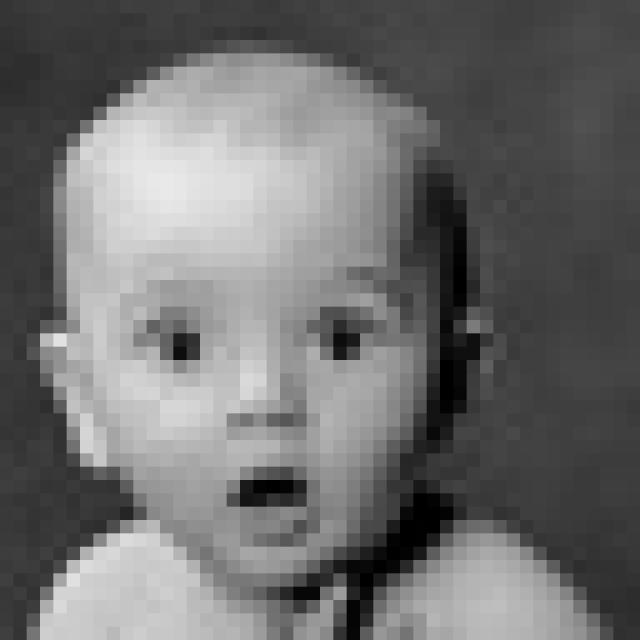surprise: (118, 258, 423, 556)
